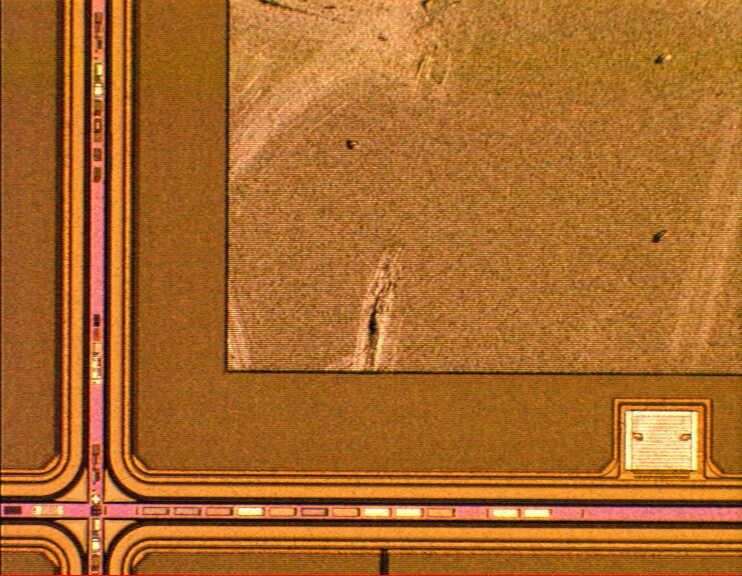SCRATCH: (227, 2, 742, 375)
